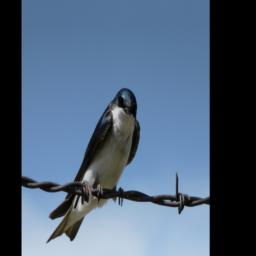Swallow: (48, 88, 141, 243)
